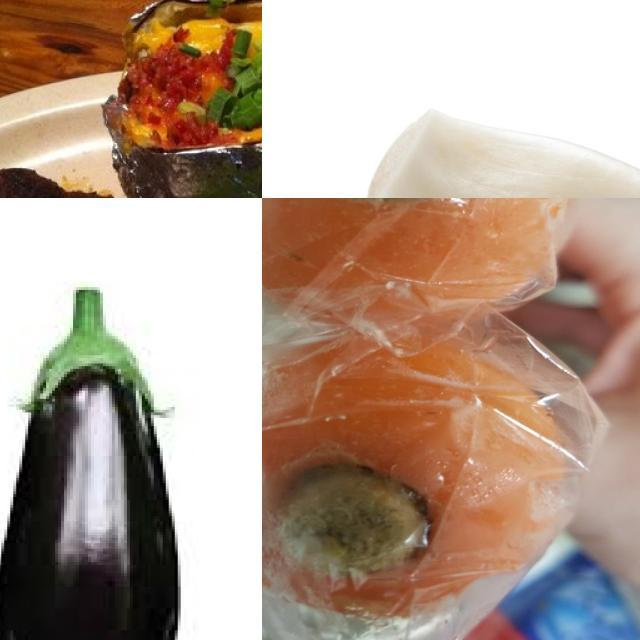carrot: (263, 329, 564, 619), (263, 199, 568, 308)
eggplant: (1, 282, 178, 640)
garlic: (360, 104, 640, 199)
